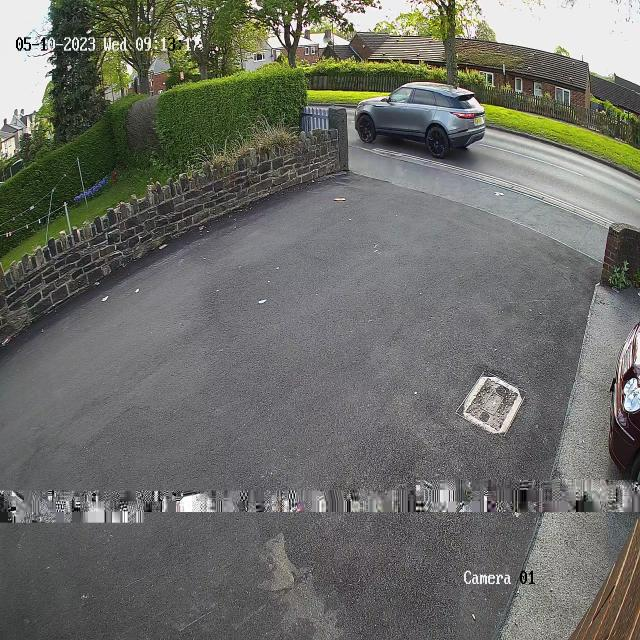vehicle: (346, 74, 490, 169)
